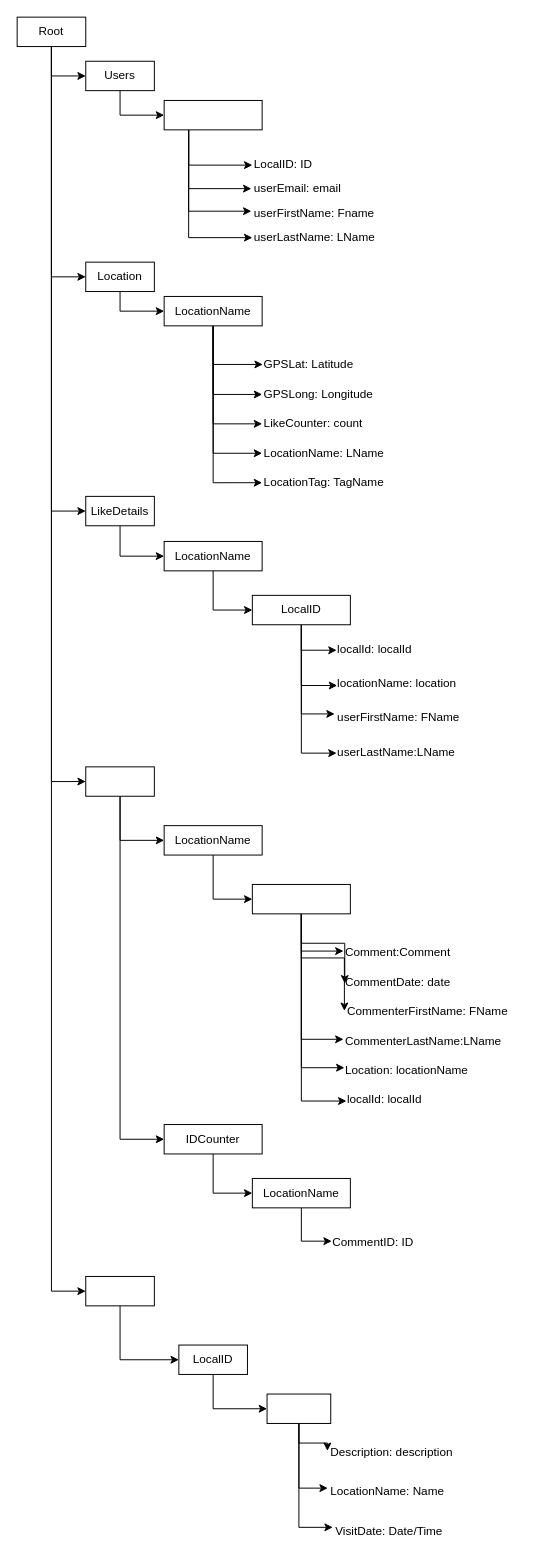
Image size: 539x1558. Some labels were removed from this diagram. Here are the shapes that lost their labels. From the top down, the centre of each, then its label:
point 212,114: User LocalID
point 119,781: Comments
point 300,898: commentID
point 119,1290: UserHistory
point 298,1408: VisitDate
